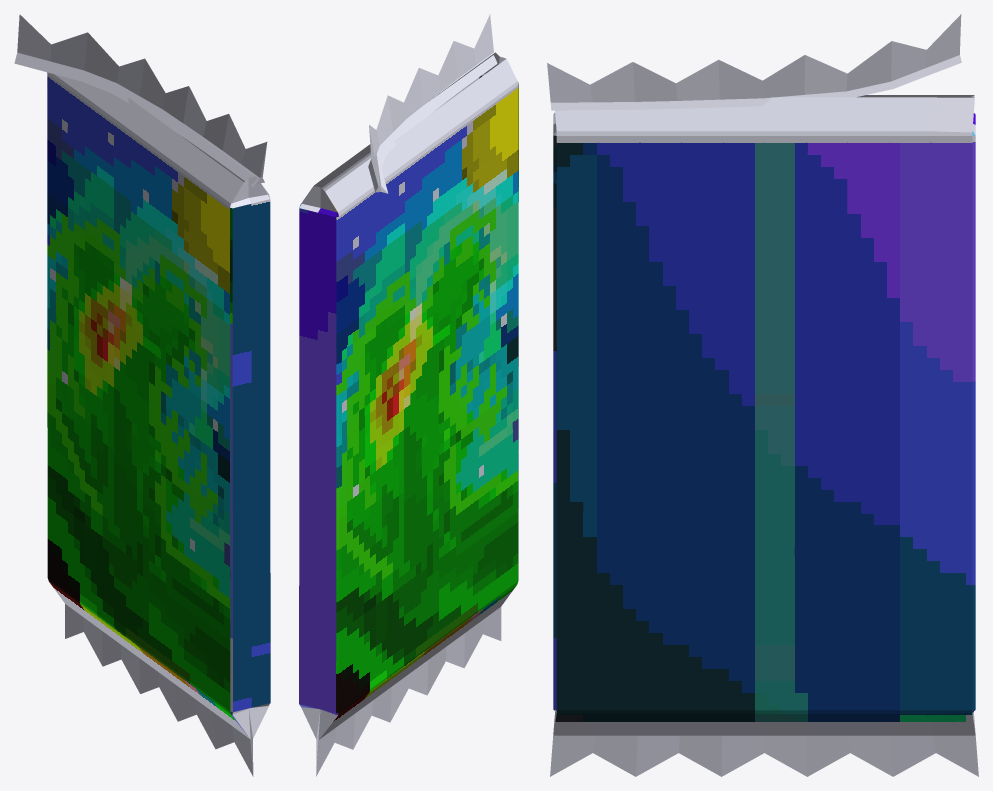
File: blender_armature_pack.gltf
3 renders of one model, left to right at view 1: azimuth 30°, elevation 25°; view 2: azimuth 150°, elevation 25°; view 3: azimuth 270°, elevation 25°, orthographic. The views are drawn at different scales.
Parts seen in each view (by area): view 1: Pack.001, Mesh_1; view 2: Pack.001, Mesh_1; view 3: Pack.001, Mesh_1.
Part boxes in pixels (x1,y1,x2,y2): Pack.001: (47,72,270,776); Mesh_1: (14,14,267,186); Pack.001: (299,52,518,776); Mesh_1: (368,14,497,193); Pack.001: (550,95,978,776); Mesh_1: (547,14,961,110).
Bounding box in the file's own units: 8.18 × 61.32 × 32.72.
Materials: 2 (2 with a texture image).
